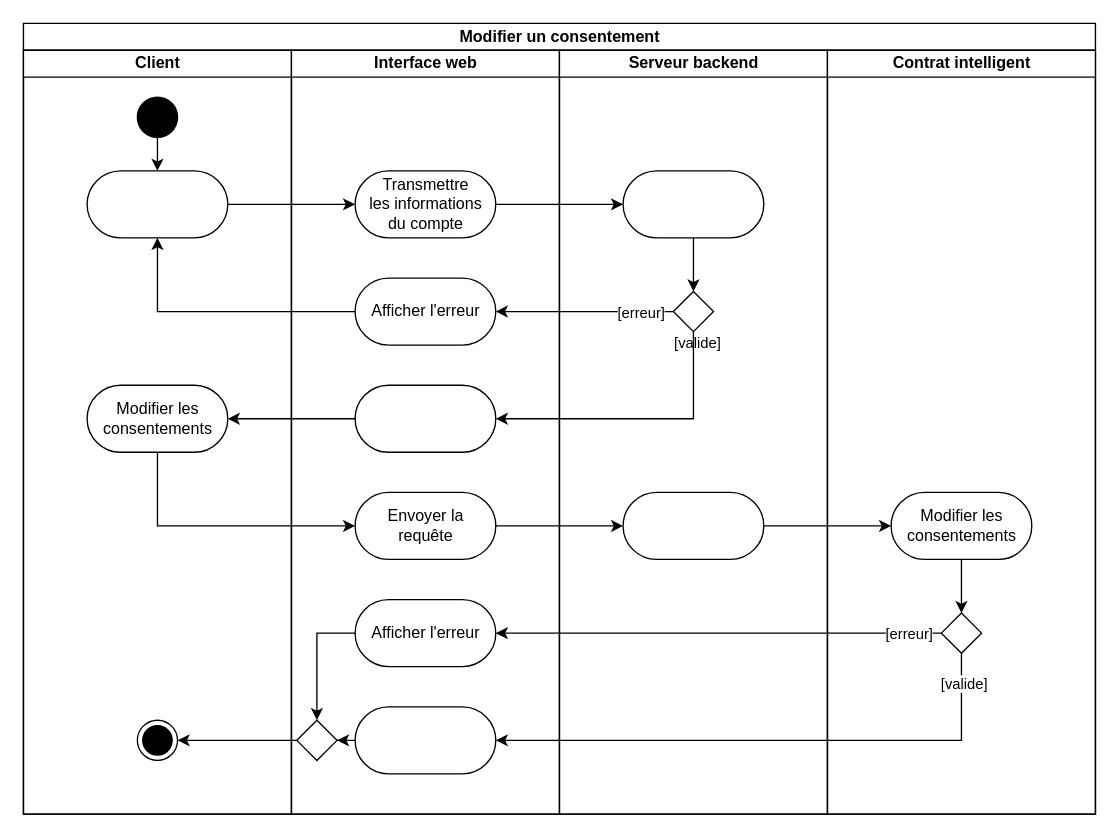
Some shapes in this 1119 by 838 pixel diagram are drawn without their labels. Each missing label, with the centre of its shape:
"Afficher la confirmation" goes at point (425, 740).
"Afficher la page du compte" goes at point (425, 418).
"Login" goes at point (157, 204).
"Transmettre les nouveaux consentements" goes at point (693, 525).
"Vérifier le compte" goes at point (693, 204).
